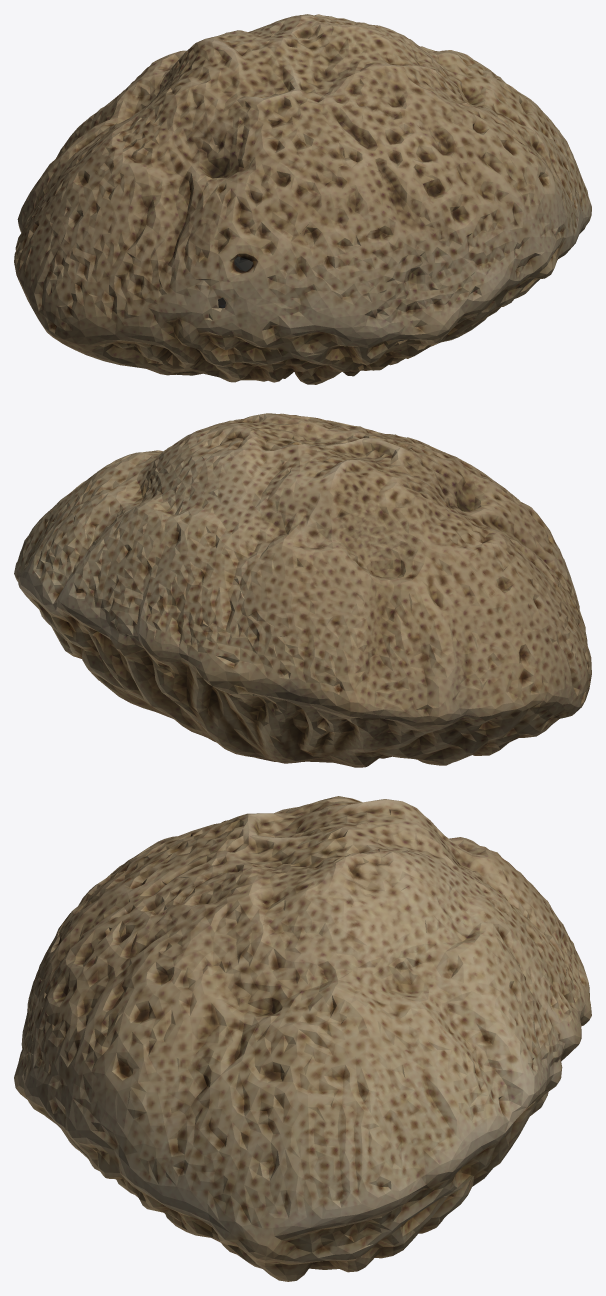
3 renders of one model, top to bottom at view 1: azimuth 30°, elevation 25°; view 2: azimuth 150°, elevation 25°; view 3: azimuth 270°, elevation 25°, orthographic. The views are drawn at different scales.
Parts seen in each view (by area): view 1: world; view 2: world; view 3: world.
Part boxes in pixels (x1,y1,x2,y2): world: (14,14,591,384); world: (14,413,591,767); world: (14,796,591,1281).
Size of the model in its own units: 0.06 by 0.0318 by 0.046.
1 material, 1 textured.
